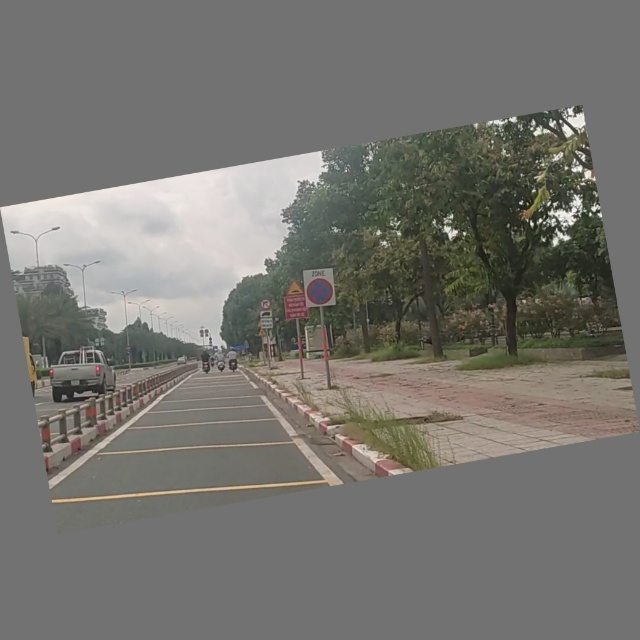P.123b: (258, 298, 272, 311)
P.130: (301, 265, 337, 311)
S.505a*Xe tai: (259, 310, 275, 331)
W.221b: (284, 279, 304, 297)
